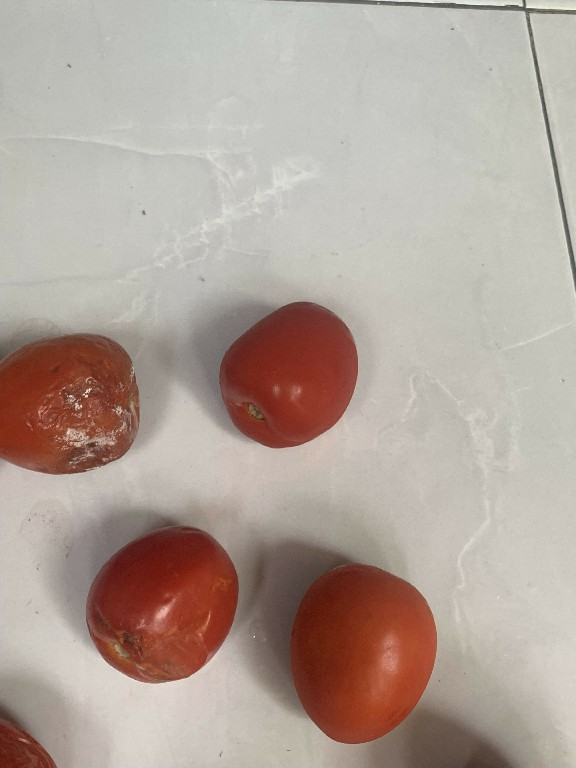NG: (77, 520, 245, 691), (0, 325, 151, 486)
OK: (286, 552, 438, 756), (214, 294, 365, 458)
